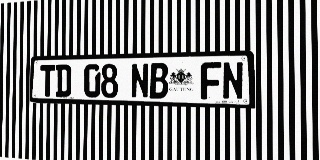0: (84, 64, 101, 98)
8: (101, 64, 118, 98)
B: (149, 63, 168, 99)
D: (56, 64, 71, 97)
F: (201, 62, 221, 100)
N: (222, 61, 244, 100), (131, 63, 149, 98)
T: (40, 65, 55, 97)
